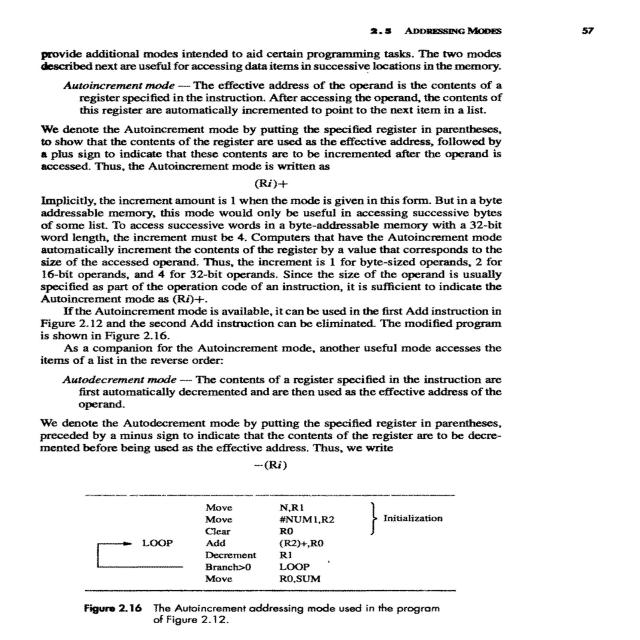diagram: (68, 469, 502, 640)
